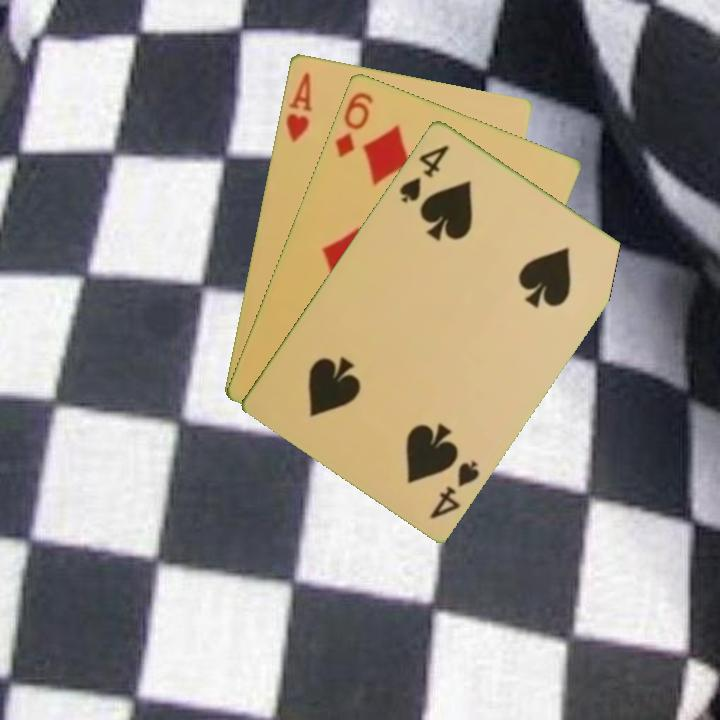4s: (395, 140, 452, 206), (426, 456, 483, 521)
6d: (331, 88, 376, 160)
Ah: (282, 68, 315, 145)
